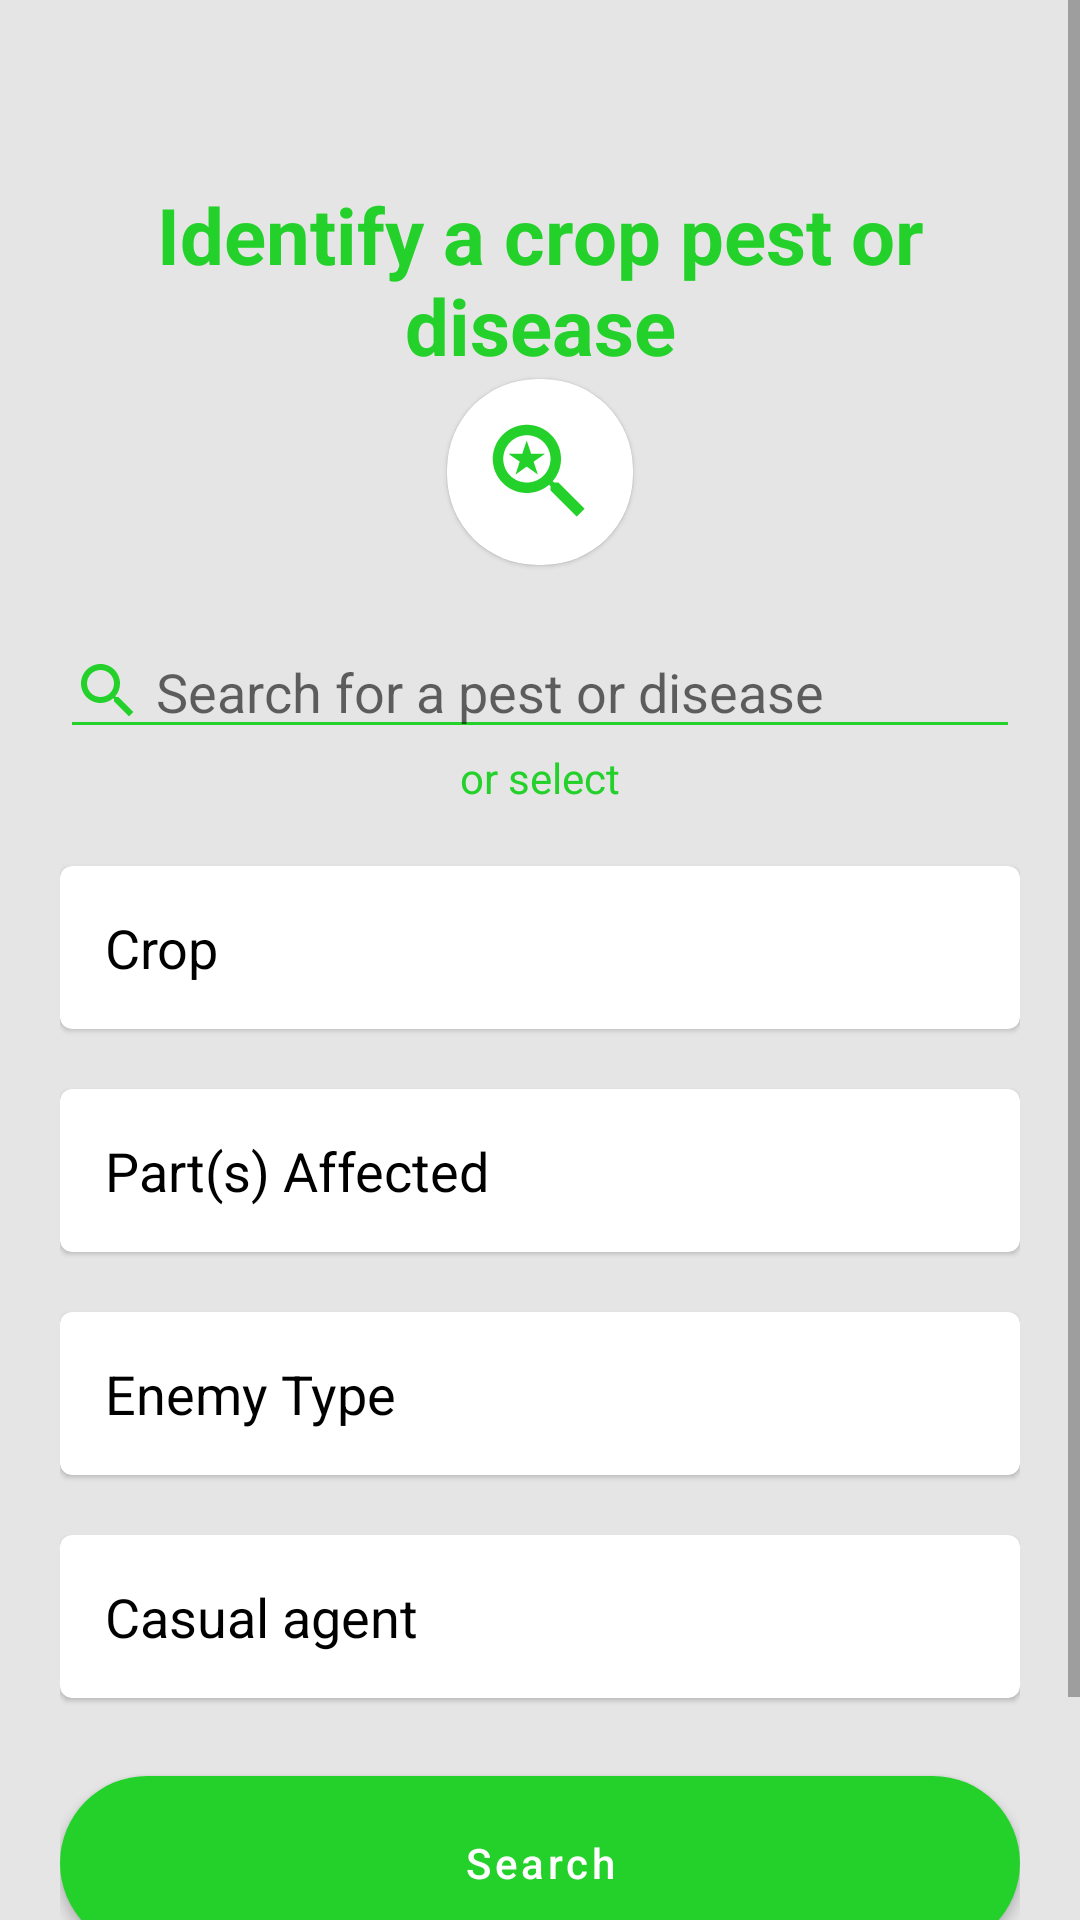

Where icons sit on this 1080*1920 app screen, as (x1, y1, x2, y2):
diagnose: (492, 424, 585, 517)
